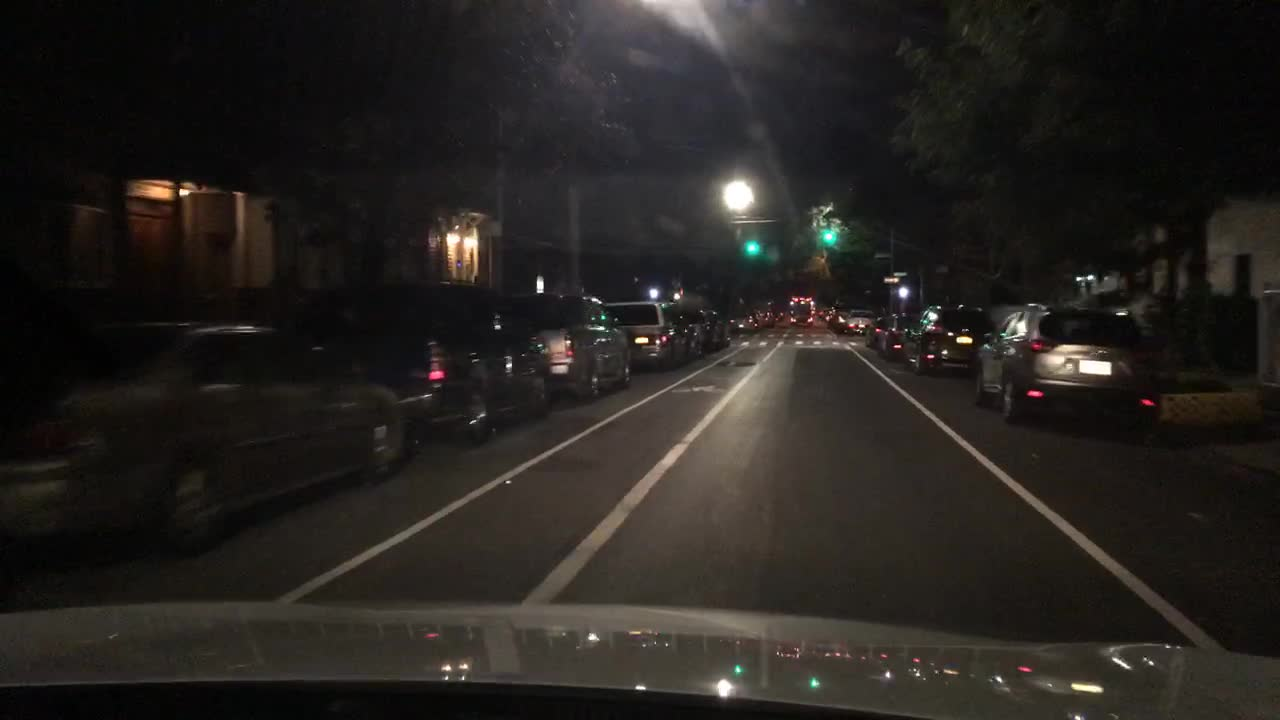bus: (786, 293, 814, 328)
car: (1, 319, 405, 551), (323, 277, 552, 446), (968, 301, 1158, 425), (504, 289, 633, 400), (602, 297, 697, 372), (911, 301, 992, 377), (876, 321, 915, 360), (861, 314, 903, 347), (702, 307, 730, 350), (683, 310, 709, 349), (841, 306, 873, 337), (738, 307, 774, 329), (729, 310, 758, 337), (827, 309, 848, 336), (817, 308, 830, 322), (770, 309, 782, 320)
traffic light: (742, 236, 757, 257), (822, 226, 837, 245)
traffic sign: (872, 251, 890, 258), (881, 276, 899, 283), (890, 269, 906, 276)
